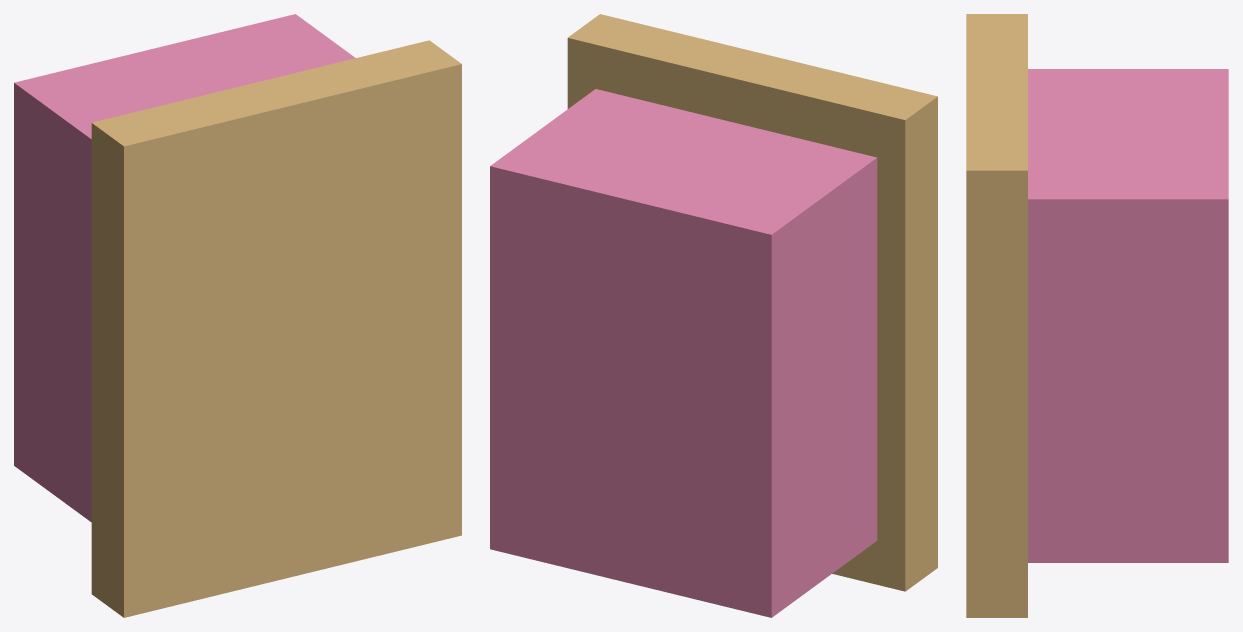
Rendered from NoStock.obj.
3 views of the same model, side by side, from view 1: azimuth 30°, elevation 25°; view 2: azimuth 150°, elevation 25°; view 3: azimuth 270°, elevation 25° (orthographic). The views are drawn at different scales.
Parts seen in each view (by area): view 1: NoStock_Detail, NoStock_Body; view 2: NoStock_Body, NoStock_Detail; view 3: NoStock_Body, NoStock_Detail.
Boxes of the visible parts, x1,y1,x2,y2 form: NoStock_Detail: [91, 40, 461, 617]; NoStock_Body: [14, 14, 355, 522]; NoStock_Body: [490, 89, 877, 617]; NoStock_Detail: [567, 14, 937, 591]; NoStock_Body: [1028, 69, 1228, 562]; NoStock_Detail: [966, 14, 1027, 617].
Size of the model in its own units: 0.12 by 0.16 by 0.085.
